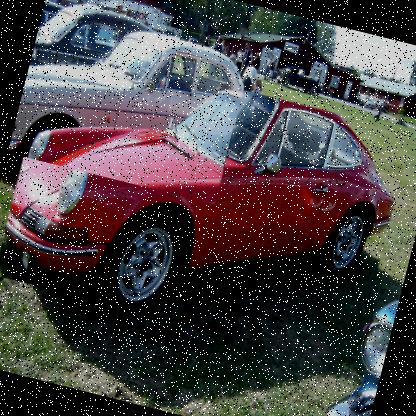Car: (0, 42, 413, 366), (7, 6, 252, 206), (29, 0, 183, 102), (316, 288, 400, 415), (39, 0, 96, 40), (274, 70, 324, 97), (357, 94, 378, 108), (370, 98, 388, 112)
